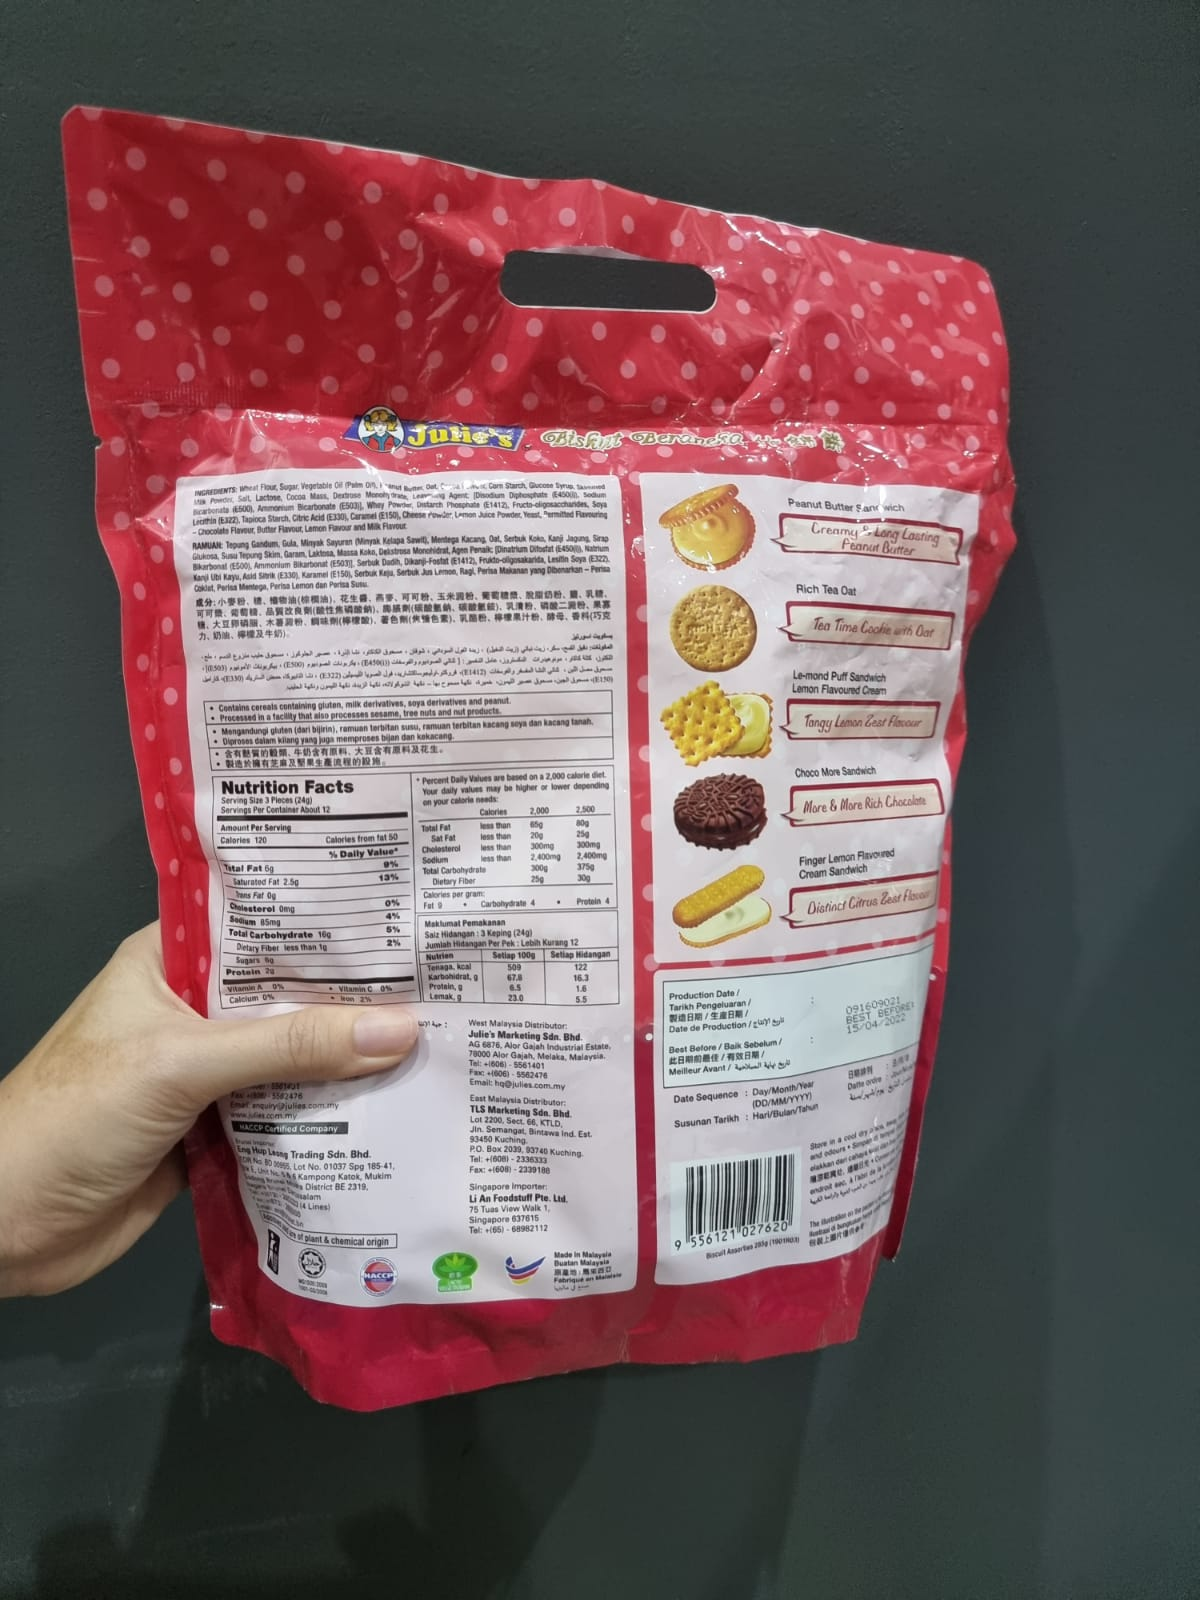Biscuits: (217, 425, 906, 1279)
